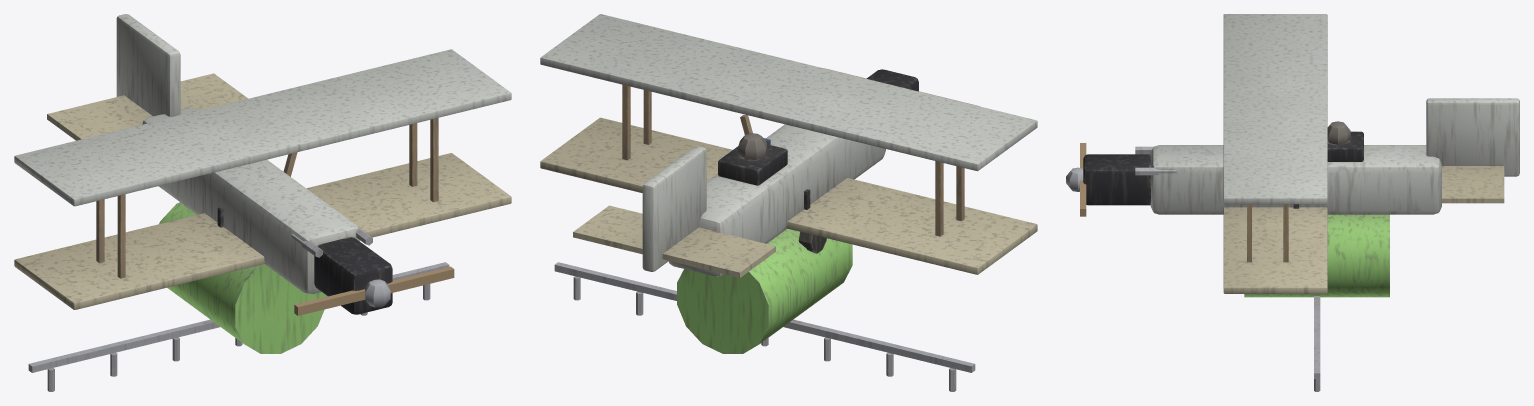
The model's file is sprayer.glb.
The picture shows the model from 3 angles, left to right: view 1: azimuth 30°, elevation 25°; view 2: azimuth 150°, elevation 25°; view 3: azimuth 270°, elevation 25°; orthographic projection. The views are drawn at different scales.
Parts seen in each view (by area): view 1: Hull, Prop; view 2: Hull; view 3: Hull, Prop.
Boxes of the visible parts, <box> form: Hull: <box>14,14,511,391</box>; Prop: <box>294,266,454,315</box>; Hull: <box>540,14,1037,391</box>; Hull: <box>1083,14,1519,391</box>; Prop: <box>1066,143,1086,216</box>.
Size of the model in its own units: 4.2 by 2.25 by 4.36.
11 materials, 9 textured.
